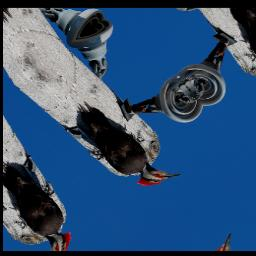Woodpecker: (57, 84, 185, 211)
